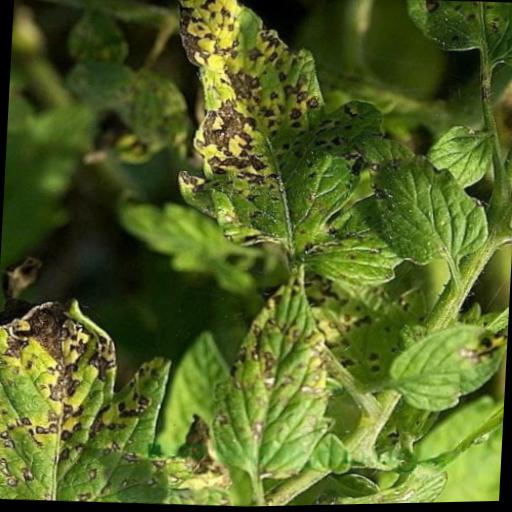Septoria: (164, 0, 396, 263), (0, 290, 252, 511), (212, 256, 341, 484), (366, 149, 489, 270), (384, 320, 508, 423)
